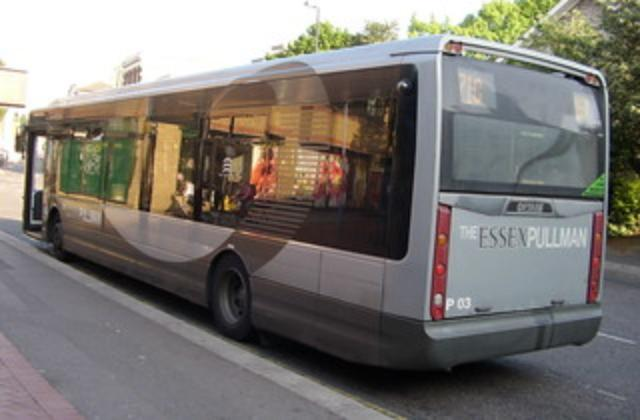bus: (16, 32, 610, 372)
